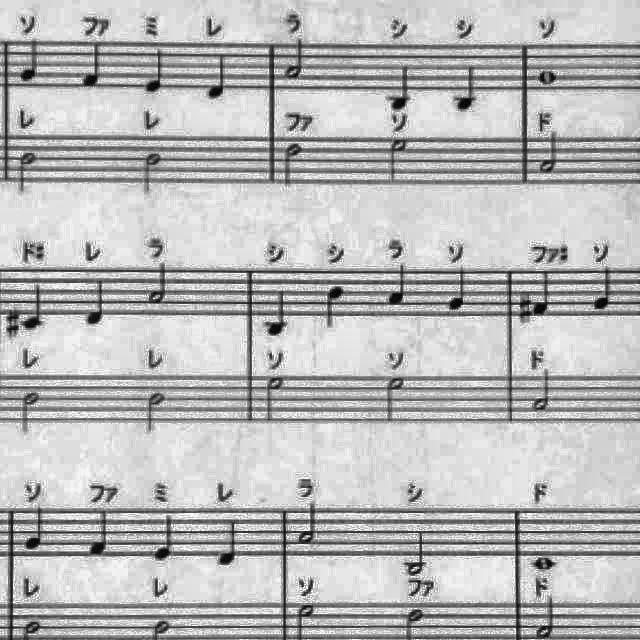Diez: (2, 303, 22, 341), (517, 294, 535, 326)
Full-note: (528, 552, 560, 576), (535, 66, 561, 88)
Half-note: (402, 526, 433, 578), (382, 372, 410, 428), (262, 372, 290, 426), (383, 134, 409, 188), (18, 387, 46, 437), (530, 363, 558, 413), (142, 388, 170, 437), (279, 140, 305, 192), (535, 130, 563, 178), (14, 148, 42, 196), (138, 152, 166, 200), (297, 499, 323, 549), (282, 36, 308, 84), (146, 260, 170, 308)
Quarter-note: (262, 286, 294, 340), (452, 61, 482, 115), (388, 58, 417, 112), (216, 515, 244, 569), (86, 505, 114, 559), (150, 511, 178, 564), (204, 49, 232, 102), (320, 282, 348, 334), (590, 262, 618, 314), (22, 502, 50, 554), (445, 262, 473, 314), (80, 40, 108, 91), (16, 36, 44, 86), (84, 278, 110, 330), (142, 44, 168, 96), (22, 280, 46, 336), (383, 260, 411, 308), (530, 268, 554, 320)
